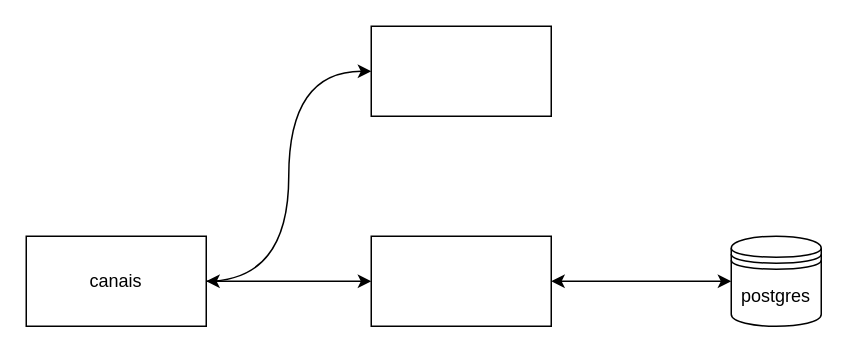
This 848x353 diagram has some shape labels left out. The centre of each missing label's shape, as x and y in pixels:
"chaos-auth-service" belongs at point 460,70.
"chaos-budget-service" belongs at point 460,280.
